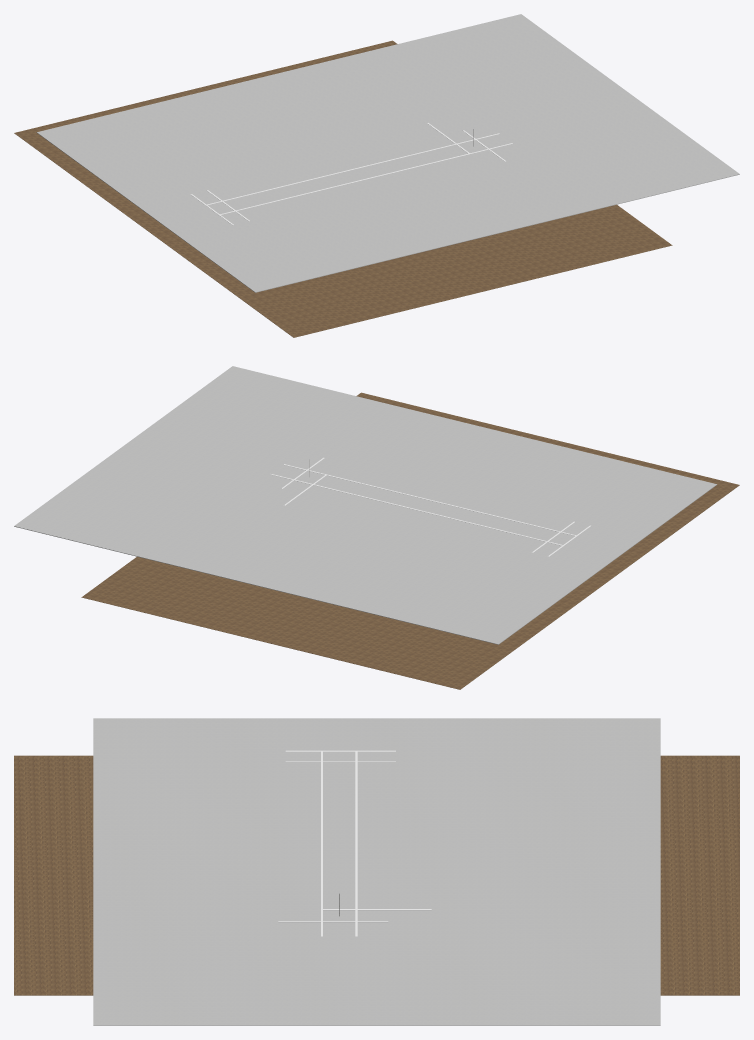
File: Piso_2.fbx
The picture shows the model from 3 angles, top to bottom: view 1: azimuth 30°, elevation 25°; view 2: azimuth 150°, elevation 25°; view 3: azimuth 270°, elevation 25°; orthographic projection. The views are drawn at different scales.
Visible parts, largest first — view 1: Techo, Suelo, Paredes.036; view 2: Techo, Suelo, Paredes.036; view 3: Techo, Suelo, Paredes.036.
Part boxes in pixels (bbox=[...]): Techo: bbox=[36, 14, 739, 292]; Suelo: bbox=[14, 40, 672, 337]; Paredes.036: bbox=[190, 123, 512, 225]; Techo: bbox=[14, 366, 717, 644]; Suelo: bbox=[81, 392, 739, 689]; Paredes.036: bbox=[270, 457, 590, 556]; Techo: bbox=[93, 718, 660, 1025]; Suelo: bbox=[14, 755, 739, 995]; Paredes.036: bbox=[278, 750, 431, 936].
Size of the model in its own units: 5840 by 1003 by 5840.
4 materials, 4 textured.
